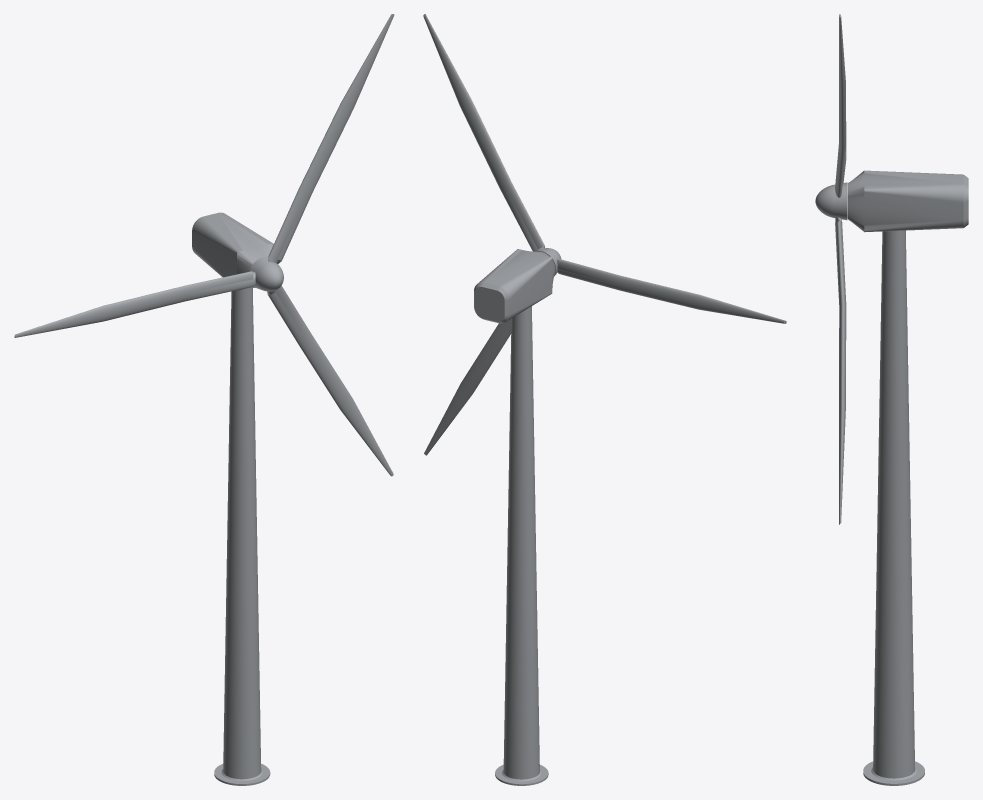
File: wind_turbine.obj
3 views of the same model, side by side, from view 1: azimuth 30°, elevation 25°; view 2: azimuth 150°, elevation 25°; view 3: azimuth 270°, elevation 25° (orthographic). The views are drawn at different scales.
Visible parts, largest first — view 1: pole, rotate_1, motor, rotate_2; view 2: pole, rotate_1, motor; view 3: pole, motor, rotate_1, rotate_2.
Boxes of the visible parts, bbox=[...] form: pole: bbox=[214, 288, 270, 785]; rotate_1: bbox=[14, 14, 394, 476]; motor: bbox=[192, 212, 273, 290]; rotate_2: bbox=[249, 256, 283, 291]; pole: bbox=[495, 306, 548, 785]; rotate_1: bbox=[423, 14, 786, 455]; motor: bbox=[474, 249, 555, 323]; pole: bbox=[863, 230, 924, 785]; motor: bbox=[847, 170, 968, 232]; rotate_1: bbox=[835, 14, 846, 524]; rotate_2: bbox=[815, 182, 847, 220].
Size of the model in its own units: 9.75 by 18.45 by 3.08.
